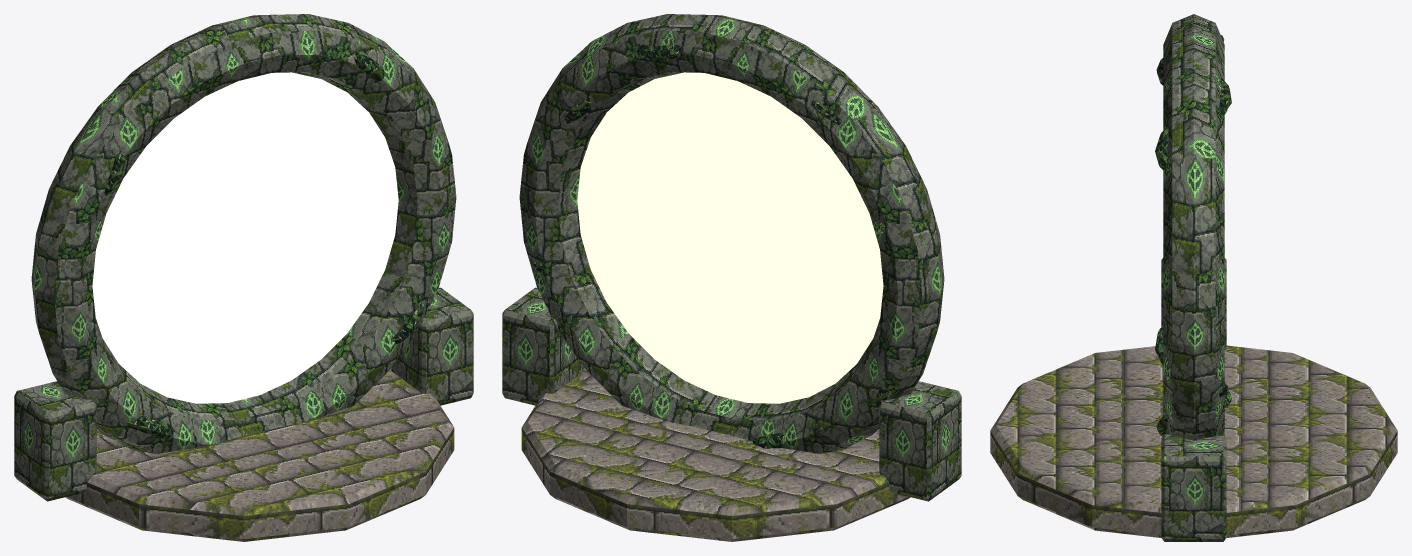
Rendered from sanct_portal.glb.
The picture shows the model from 3 angles, left to right: view 1: azimuth 30°, elevation 25°; view 2: azimuth 150°, elevation 25°; view 3: azimuth 270°, elevation 25°; orthographic projection. The views are drawn at different scales.
Parts seen in each view (by area): view 1: Disc, Ring, Base, Foot-1, Foot1, Vine1, Vine0; view 2: Disc, Ring, Base, Foot-1, Foot1, Vine0, Vine1; view 3: Base, Ring, Foot1, Vine0, Vine1.
Boxes of the visible parts, bbox=[...] form: Disc: bbox=[92, 72, 398, 403]; Ring: bbox=[31, 14, 456, 453]; Base: bbox=[65, 368, 454, 541]; Foot-1: bbox=[14, 381, 96, 501]; Foot1: bbox=[391, 287, 473, 405]; Vine1: bbox=[127, 302, 424, 438]; Vine0: bbox=[104, 51, 384, 195]; Disc: bbox=[577, 72, 883, 403]; Ring: bbox=[519, 14, 944, 453]; Base: bbox=[521, 368, 910, 541]; Foot-1: bbox=[879, 381, 961, 501]; Foot1: bbox=[502, 287, 584, 405]; Vine0: bbox=[565, 44, 886, 232]; Vine1: bbox=[533, 261, 888, 448]; Base: bbox=[990, 345, 1397, 537]; Ring: bbox=[1163, 14, 1224, 440]; Foot1: bbox=[1161, 434, 1226, 541]; Vine0: bbox=[1155, 35, 1231, 169]; Vine1: bbox=[1155, 325, 1231, 436].
Bounding box in the file's own units: 6.6 × 6.4 × 5.6.
4 materials, 3 textured.
